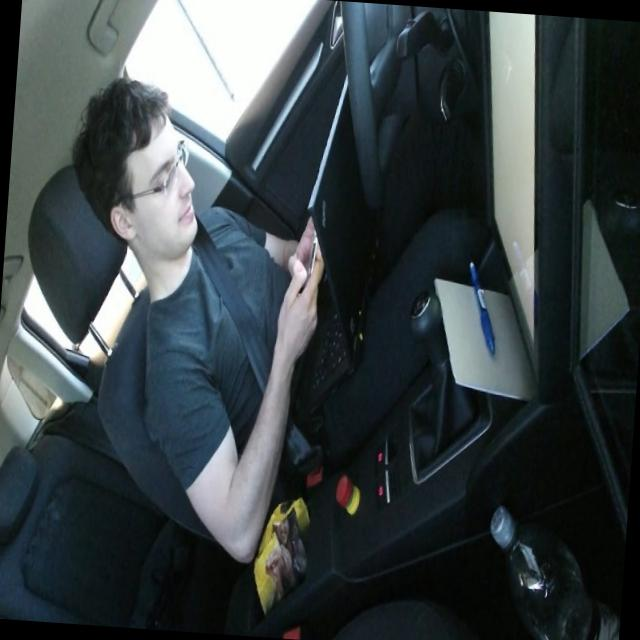laptop: (284, 72, 386, 434)
pen: (462, 258, 502, 356)
